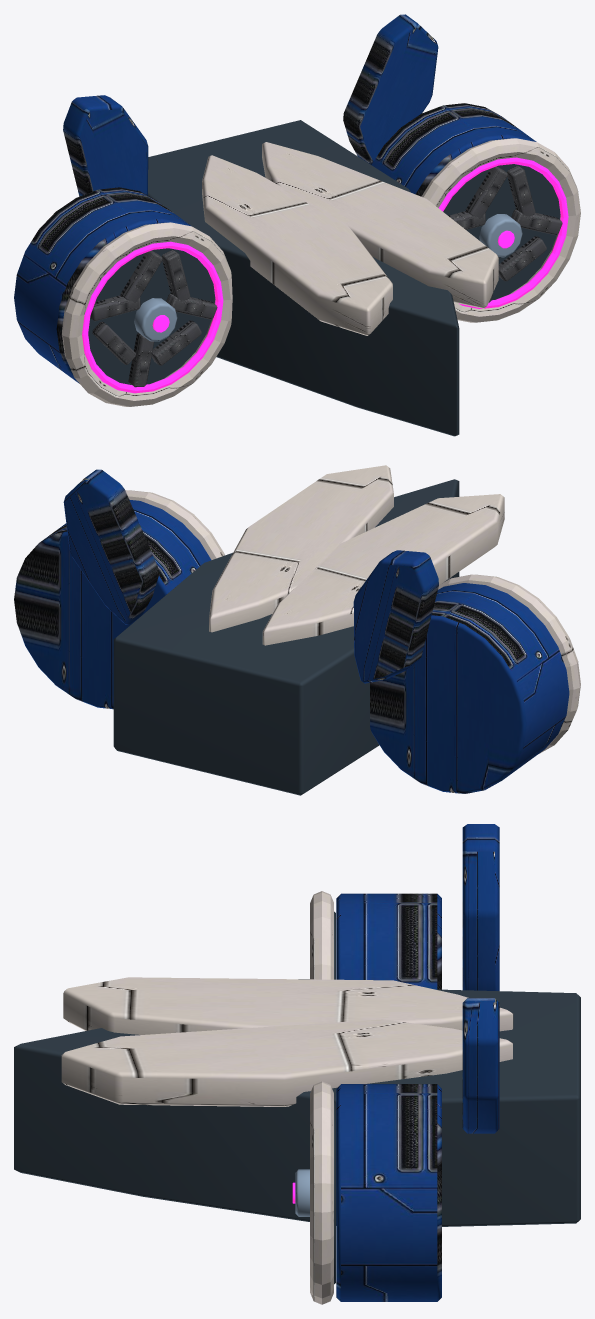
Rendered from flyer.glb.
The picture shows the model from 3 angles, top to bottom: view 1: azimuth 30°, elevation 25°; view 2: azimuth 150°, elevation 25°; view 3: azimuth 270°, elevation 25°; orthographic projection. The views are drawn at different scales.
Parts seen in each view (by area): view 1: Split arrow nose, Pointed interceptor chassis, Swept dorsal vane, Turbine impeller blade, Turbine running light, Turbine hub; view 2: Swept dorsal vane, Pointed interceptor chassis, Split arrow nose; view 3: Pointed interceptor chassis, Split arrow nose, Swept dorsal vane, Turbine hub.
Boxes of the visible parts, x1,y1,x2,y2 form: Split arrow nose: (62,138,580,406); Pointed interceptor chassis: (88,120,560,436); Swept dorsal vane: (14,14,536,383); Turbine impeller blade: (90,165,562,387); Turbine running light: (82,157,568,393); Turbine hub: (134,214,522,341); Swept dorsal vane: (14,469,569,793); Pointed interceptor chassis: (113,479,459,795); Split arrow nose: (125,465,580,753); Pointed interceptor chassis: (14,911,580,1284); Split arrow nose: (61,891,513,1304); Swept dorsal vane: (336,824,499,1301); Turbine hub: (295,979,309,1216).
Size of the model in its own units: 1.47 by 0.6893 by 1.23.
6 materials, 3 textured.
